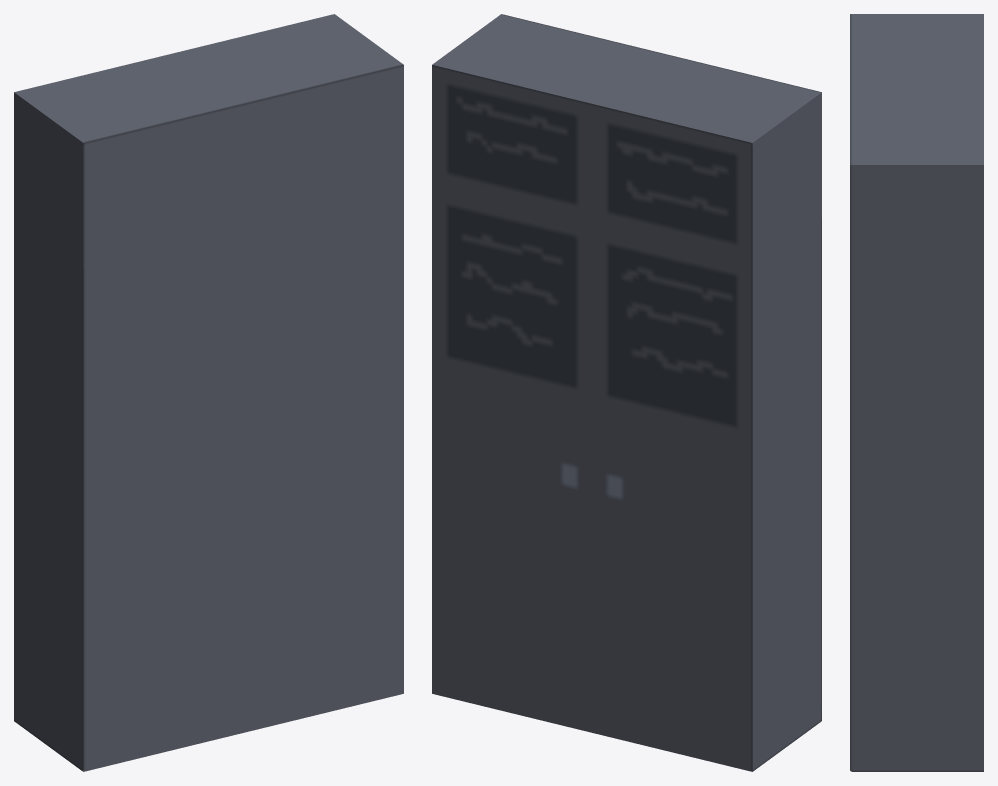
File: dolap.obj
3 renders of one model, left to right at view 1: azimuth 30°, elevation 25°; view 2: azimuth 150°, elevation 25°; view 3: azimuth 270°, elevation 25°, orthographic. The views are drawn at different scales.
Visible parts, largest first — view 1: cube; view 2: cube; view 3: cube.
Boxes of the visible parts, bbox=[...] form: cube: bbox=[14, 14, 403, 771]; cube: bbox=[432, 14, 821, 771]; cube: bbox=[850, 14, 983, 771].
Size of the model in its own units: 1 by 1.88 by 0.375.
